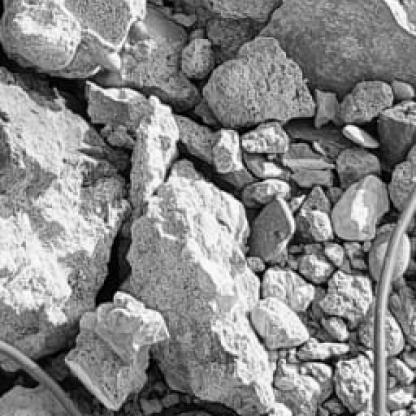cementitious_debris: (146, 1, 414, 411), (2, 346, 238, 414)
